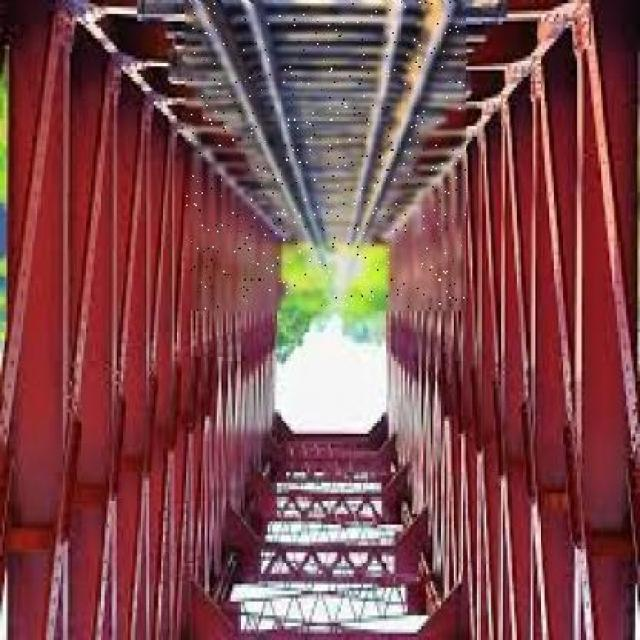rail: (187, 3, 466, 311)
